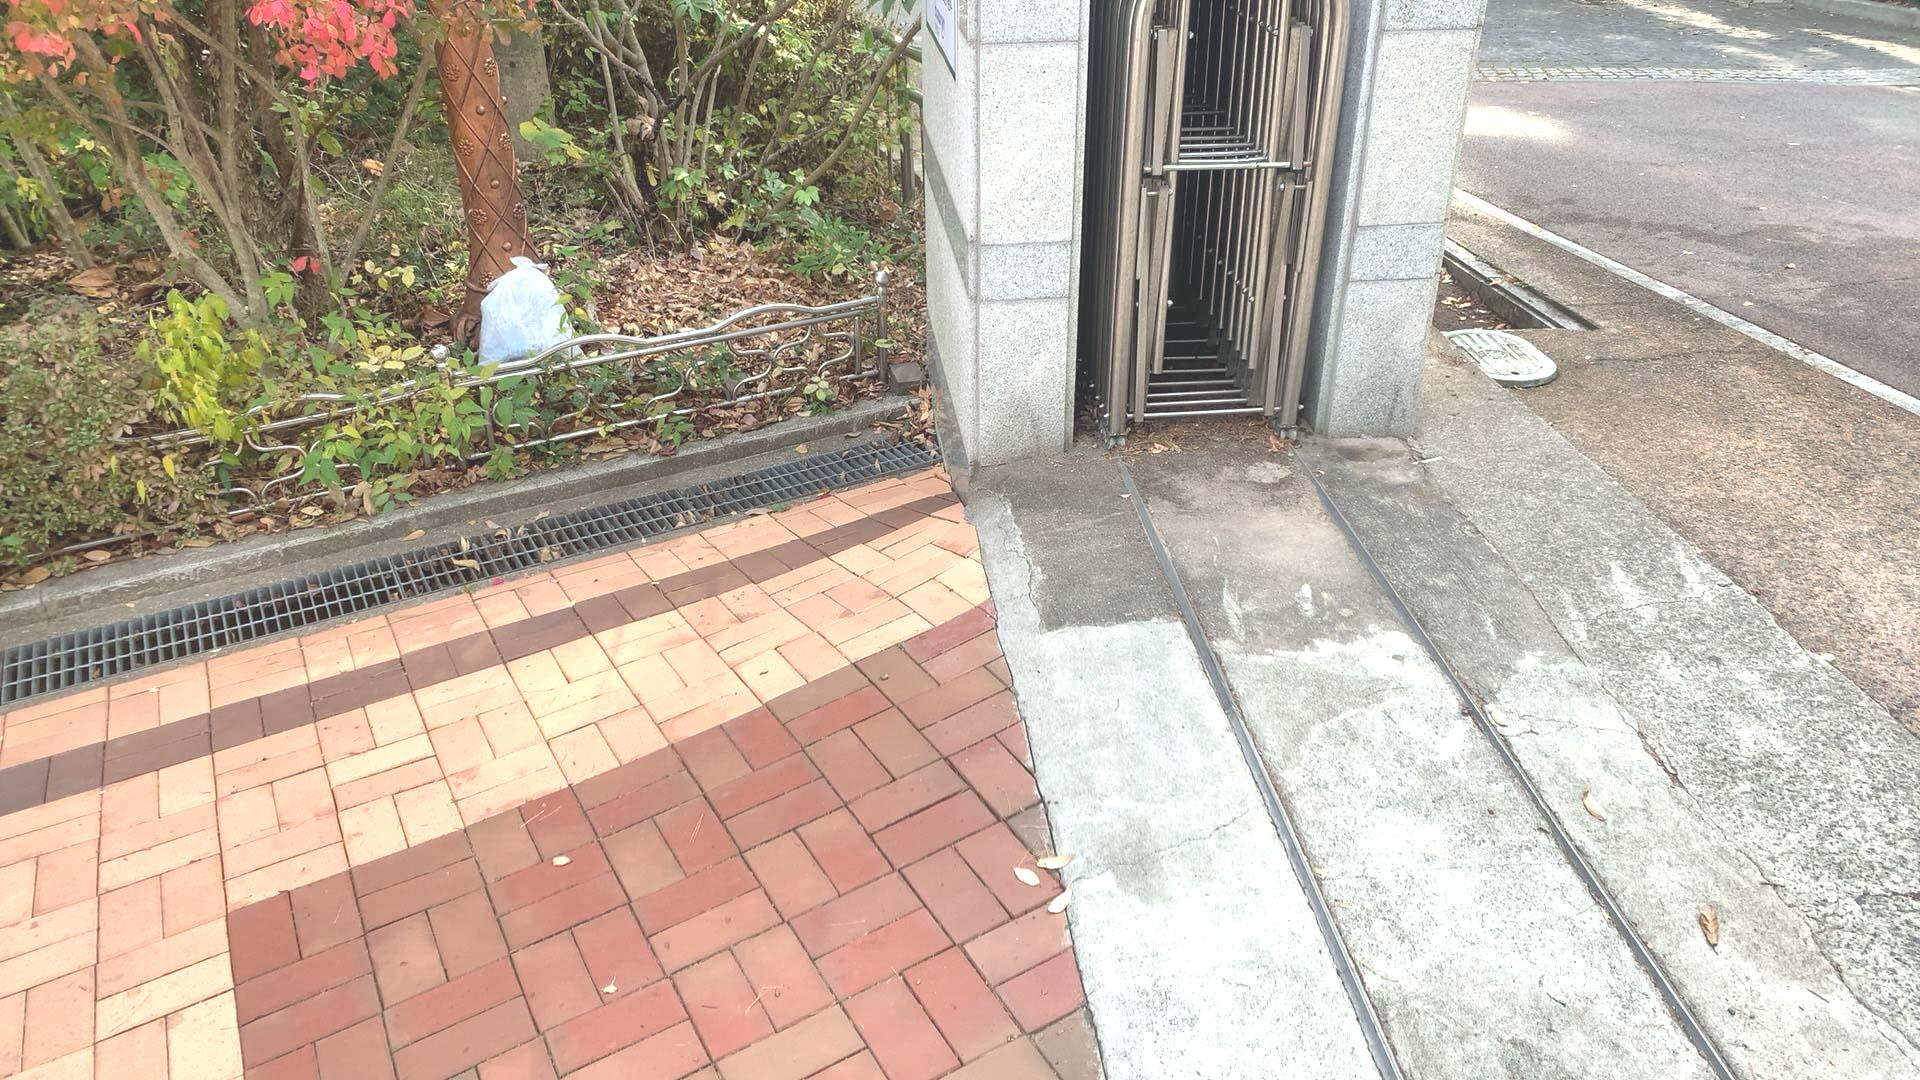white_bag: (469, 247, 601, 378)
